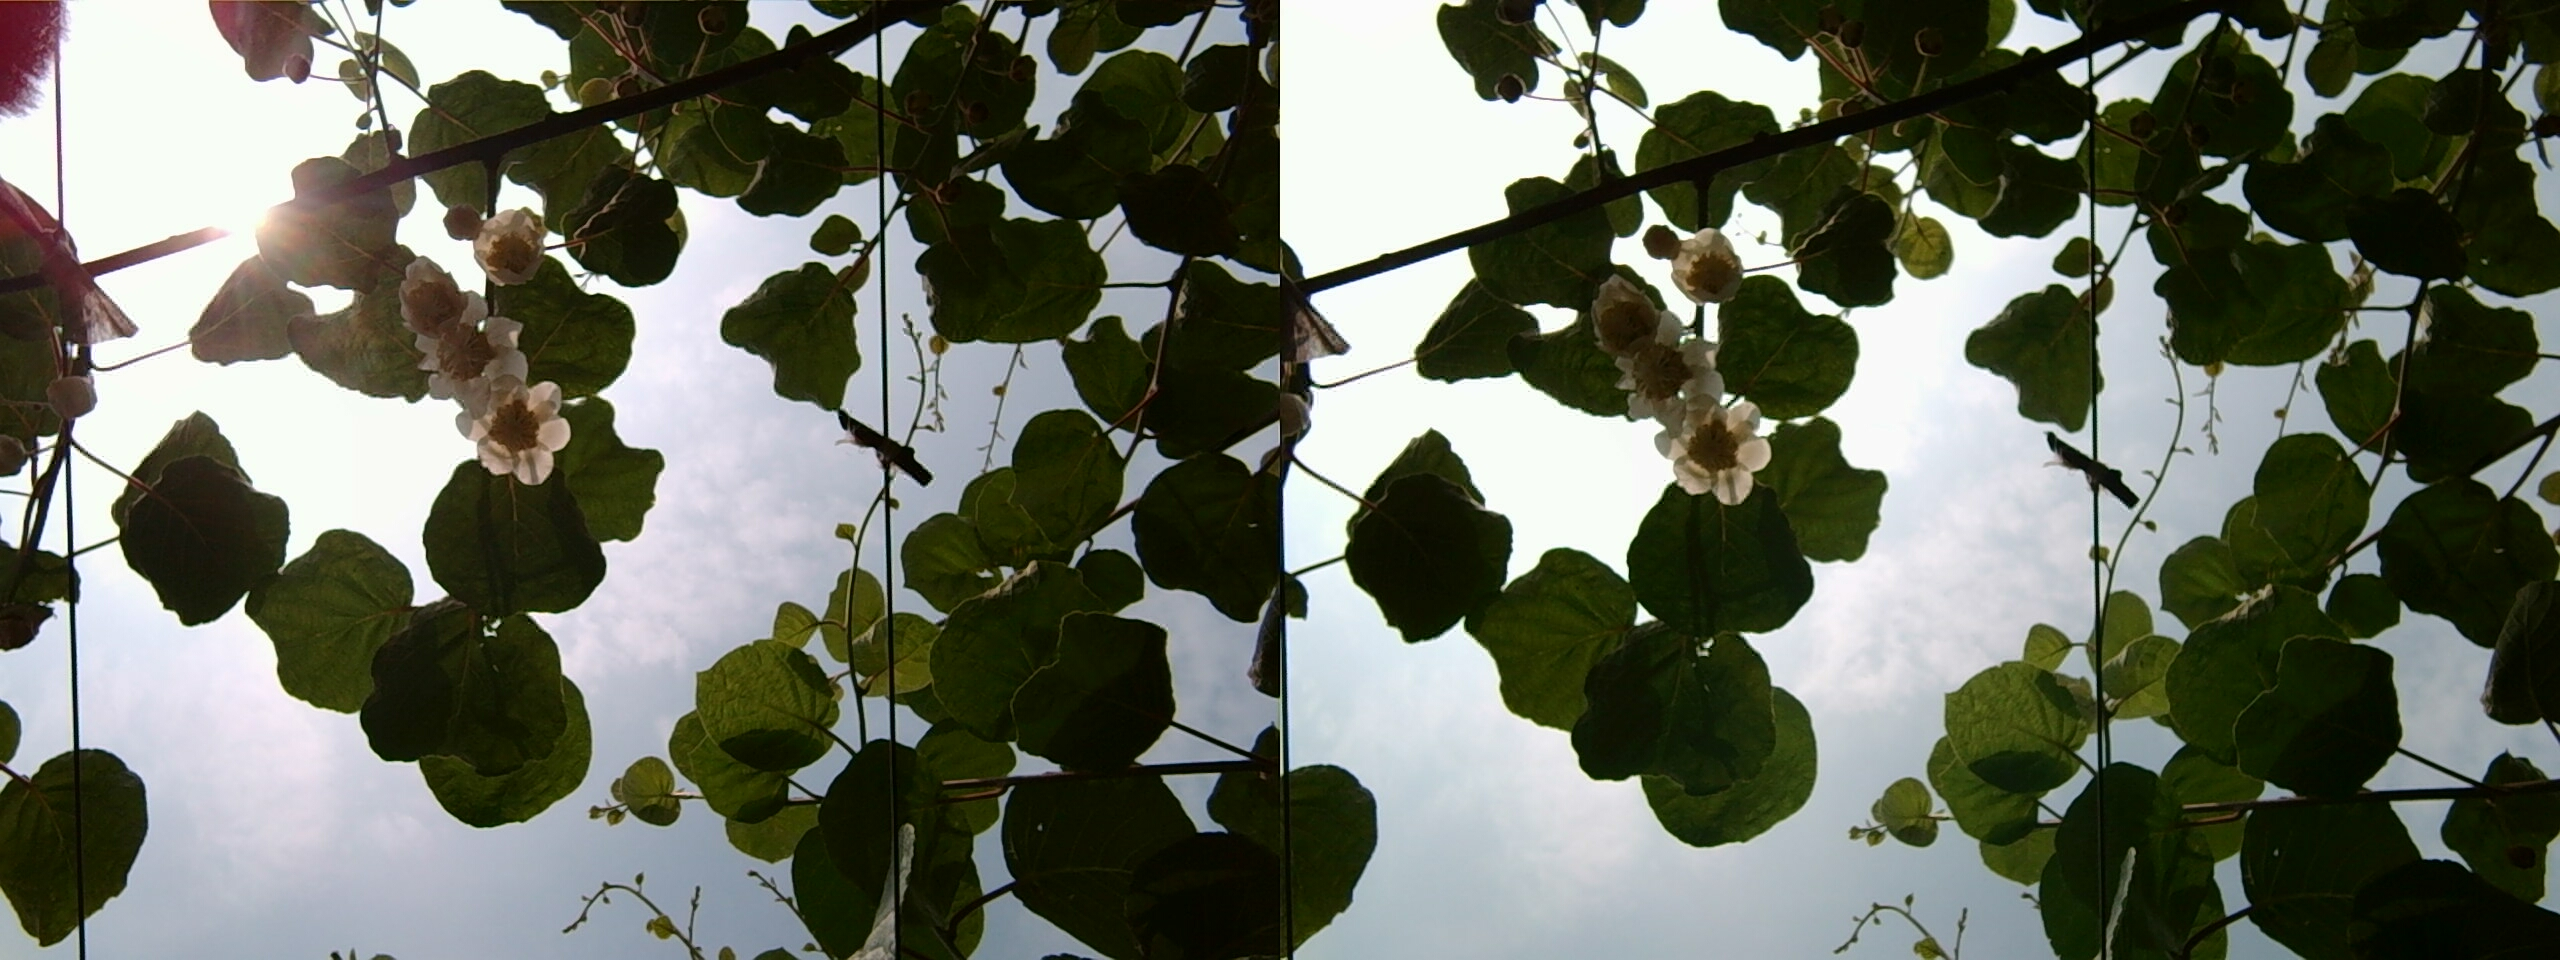flower: (1597, 333, 1747, 428), (1656, 407, 1776, 501), (424, 315, 536, 411), (376, 245, 478, 348), (473, 389, 568, 487), (469, 194, 558, 281), (1582, 278, 1673, 359), (1665, 220, 1753, 300)
